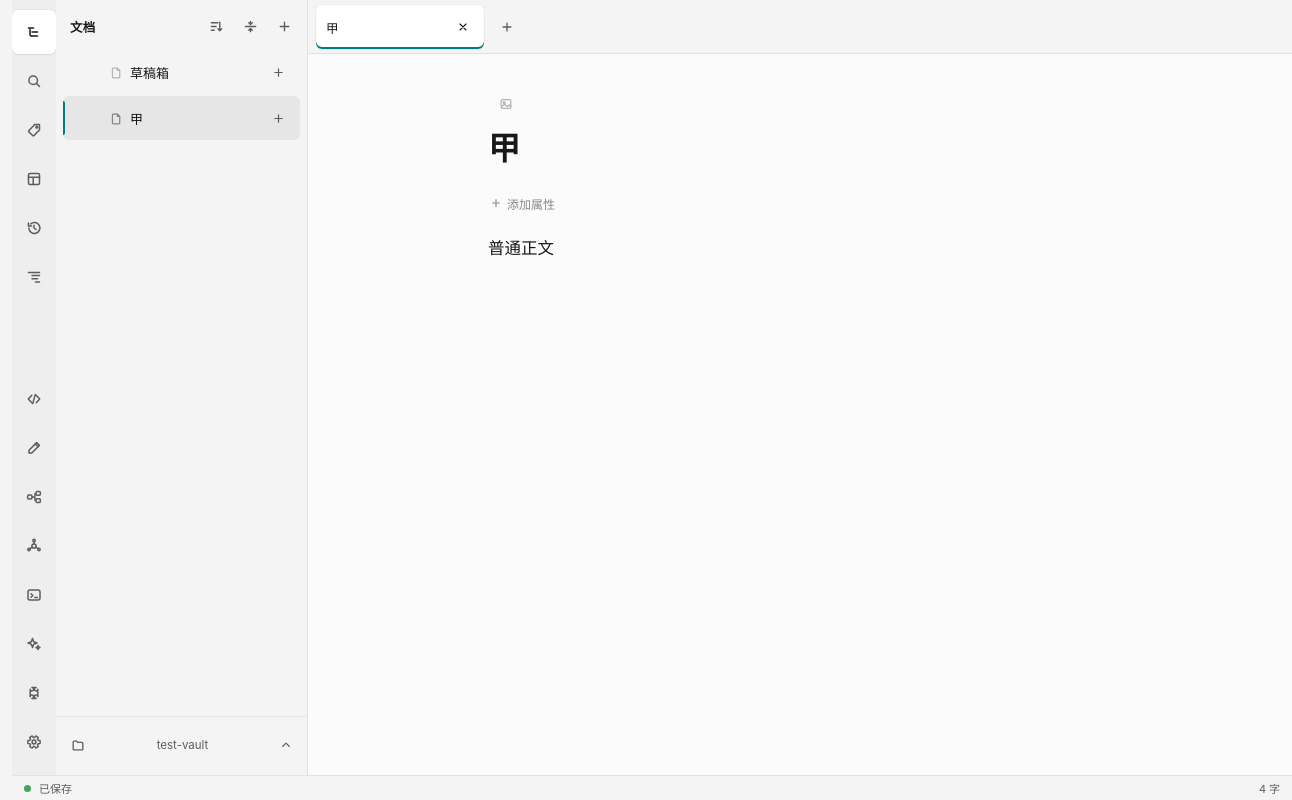
草稿箱在文档树里 › 从树里点开就是卡片界面，不是一篇 Markdown
Click the button with class "tree-label" showing "草稿箱".
click(182, 72)  # box x1=106 y1=50 x2=259 y2=94
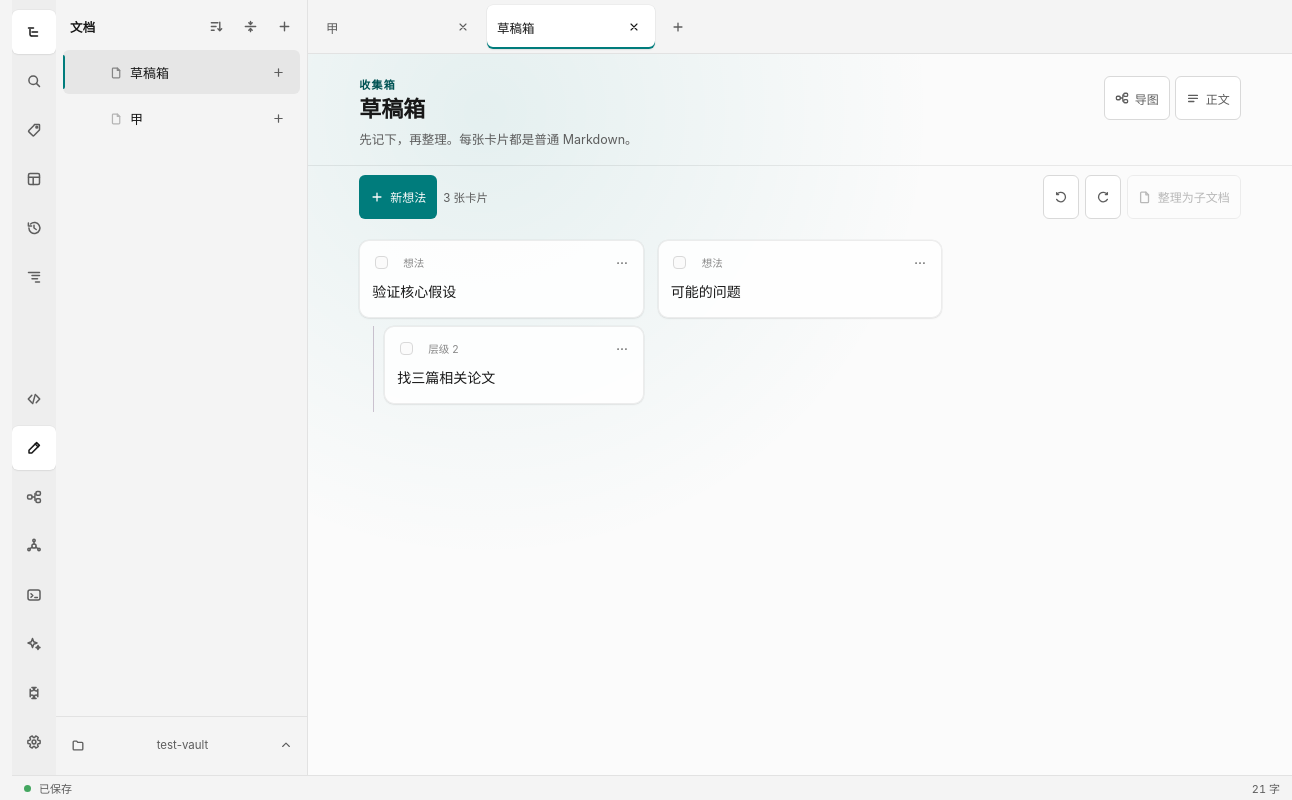
Result: the element named "收集箱" is shown
